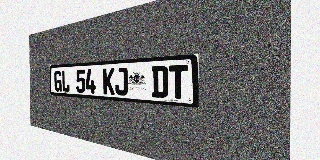4: (85, 69, 95, 94)
5: (76, 69, 85, 93)
D: (151, 65, 168, 98)
G: (54, 70, 62, 92)
J: (115, 67, 128, 96)
K: (103, 68, 115, 95)
L: (62, 70, 70, 92)
T: (169, 65, 188, 99)
